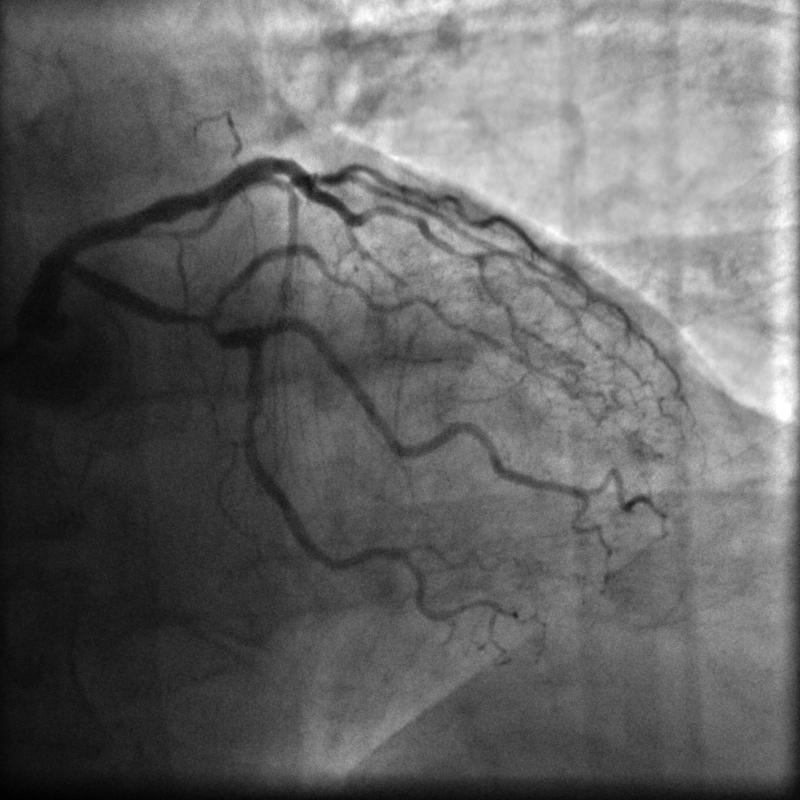Stenosis: (173, 305, 230, 334)
